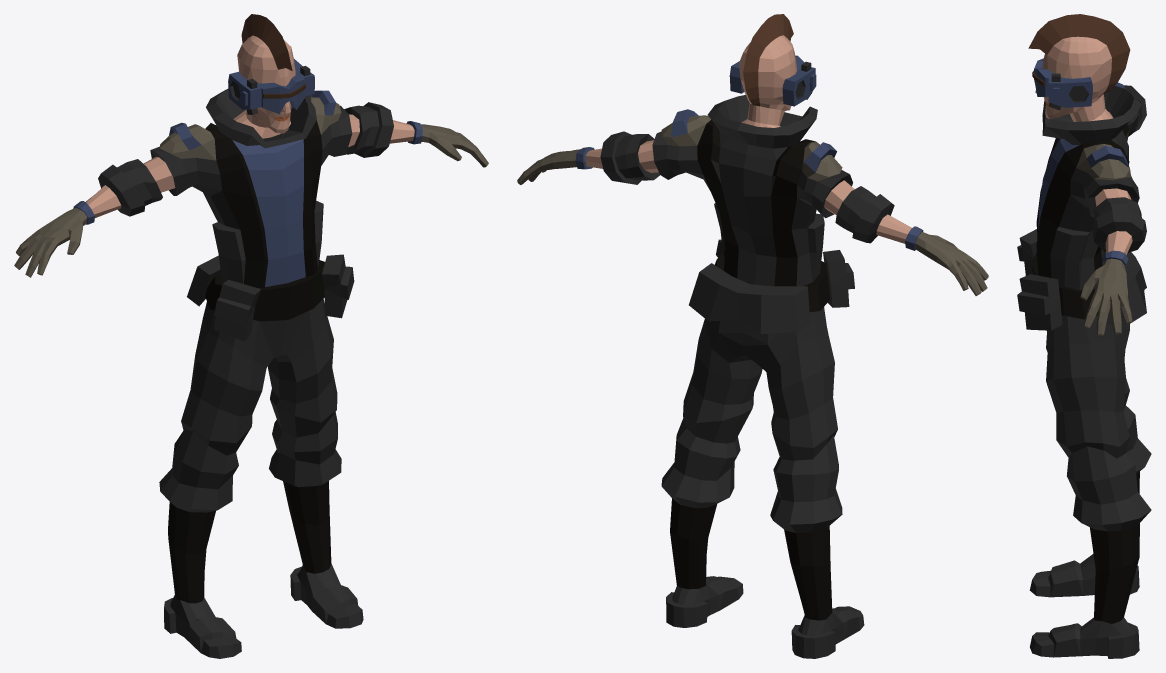
File: Future_M_1.fbx
3 renders of one model, left to right at view 1: azimuth 30°, elevation 25°; view 2: azimuth 150°, elevation 25°; view 3: azimuth 270°, elevation 25°, orthographic.
Visible parts, largest first — view 1: Future_M_1, Future_M_1.004, Future_M_1.003, Future_M_1.001, Future_M_1.002; view 2: Future_M_1, Future_M_1.002, Future_M_1.004, Future_M_1.003; view 3: Future_M_1, Future_M_1.001, Future_M_1.004, Future_M_1.002, Future_M_1.003.
Boxes of the visible parts, box(x1,y1,x2,y2) form: Future_M_1: box(14, 14, 488, 658); Future_M_1.004: box(228, 58, 314, 114); Future_M_1.003: box(214, 280, 260, 341); Future_M_1.001: box(322, 254, 354, 318); Future_M_1.002: box(187, 255, 220, 306); Future_M_1: box(517, 14, 988, 658); Future_M_1.002: box(689, 263, 810, 334); Future_M_1.004: box(729, 55, 816, 106); Future_M_1.003: box(823, 250, 854, 307); Future_M_1: box(1028, 14, 1151, 658); Future_M_1.001: box(1017, 274, 1062, 330); Future_M_1.004: box(1032, 58, 1092, 110); Future_M_1.002: box(1104, 251, 1146, 324); Future_M_1.003: box(1017, 229, 1037, 275).
Bounding box in the file's own units: 150 × 186 × 37.49.
1 material, 1 textured.
